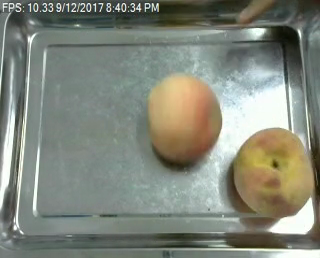Peach: (231, 127, 316, 217), (147, 73, 223, 166)
